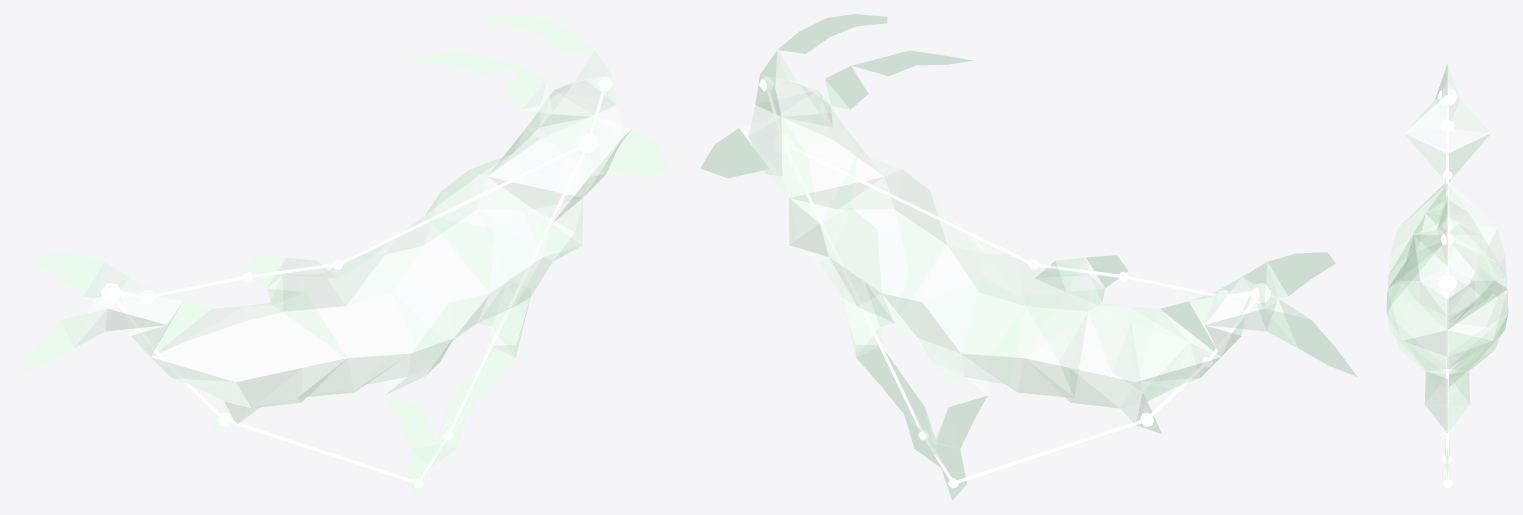
Rendered from 10_Capricornus.glb.
The picture shows the model from 3 angles, left to right: view 1: azimuth 30°, elevation 25°; view 2: azimuth 150°, elevation 25°; view 3: azimuth 270°, elevation 25°; orthographic projection. The views are drawn at different scales.
Parts seen in each view (by area): view 1: Capricornus; view 2: Capricornus; view 3: Capricornus.
Part boxes in pixels (left/top/right/bottom): Capricornus: left=14, top=14, right=671, bottom=500; Capricornus: left=700, top=14, right=1357, bottom=500; Capricornus: left=1386, top=63, right=1508, bottom=488.
Size of the model in its own units: 1.74 by 1.18 by 0.3.
